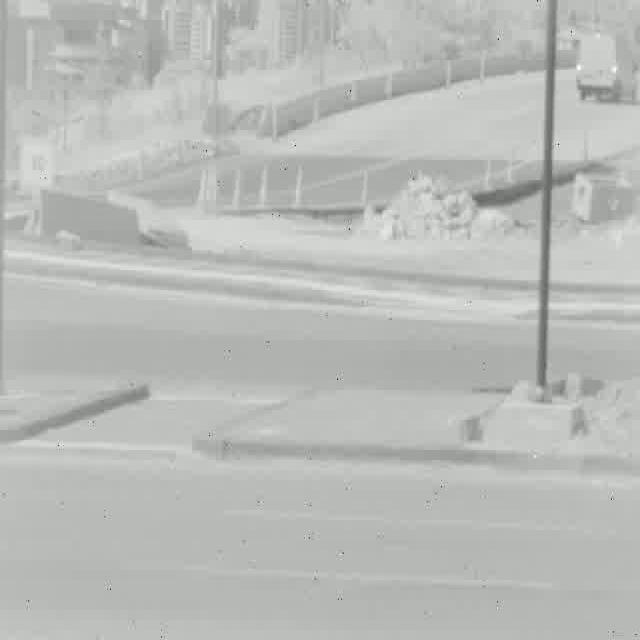Car: (578, 34, 636, 102)
